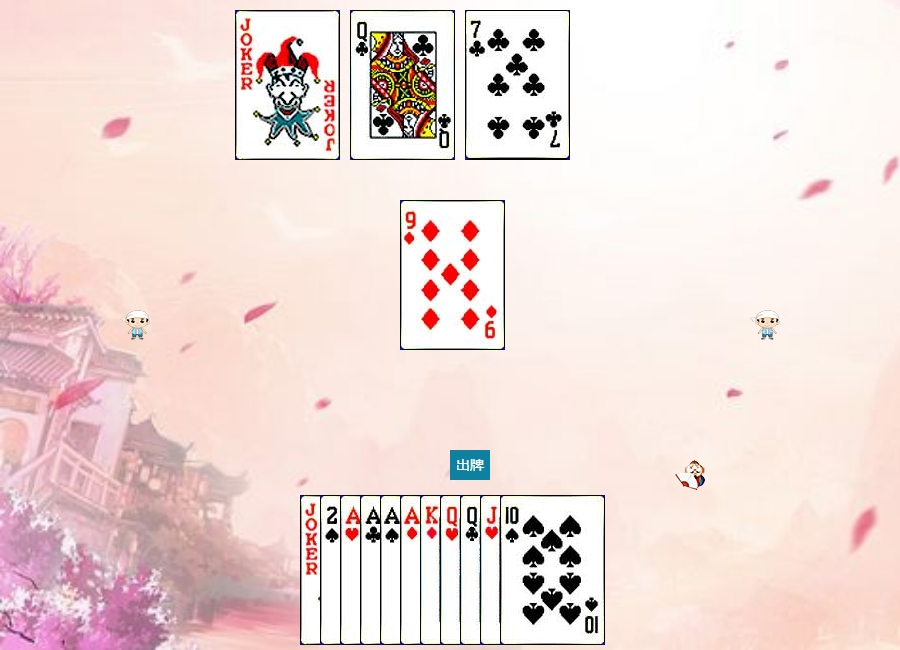10~4: (500, 495, 605, 645)
11~3: (480, 495, 585, 645)
12~2: (350, 10, 455, 160), (460, 495, 565, 645)
12~3: (440, 495, 545, 645)
13~1: (420, 495, 525, 645)
14~1: (400, 495, 505, 645)
14~2: (360, 495, 465, 645)
14~3: (340, 495, 445, 645)
14~4: (380, 495, 485, 645)
15~4: (320, 495, 425, 645)
18~4: (235, 10, 340, 160), (300, 495, 405, 645)
7~2: (465, 10, 570, 160)
9~1: (400, 200, 505, 350)
